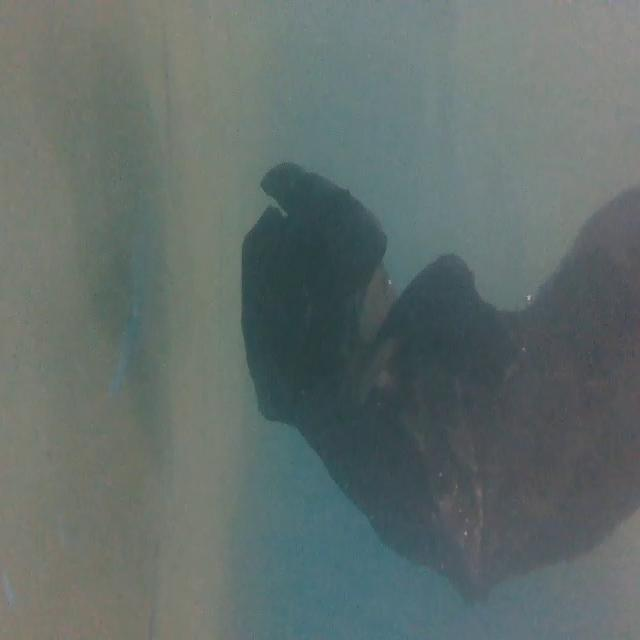plastic bags: (231, 133, 640, 600)
